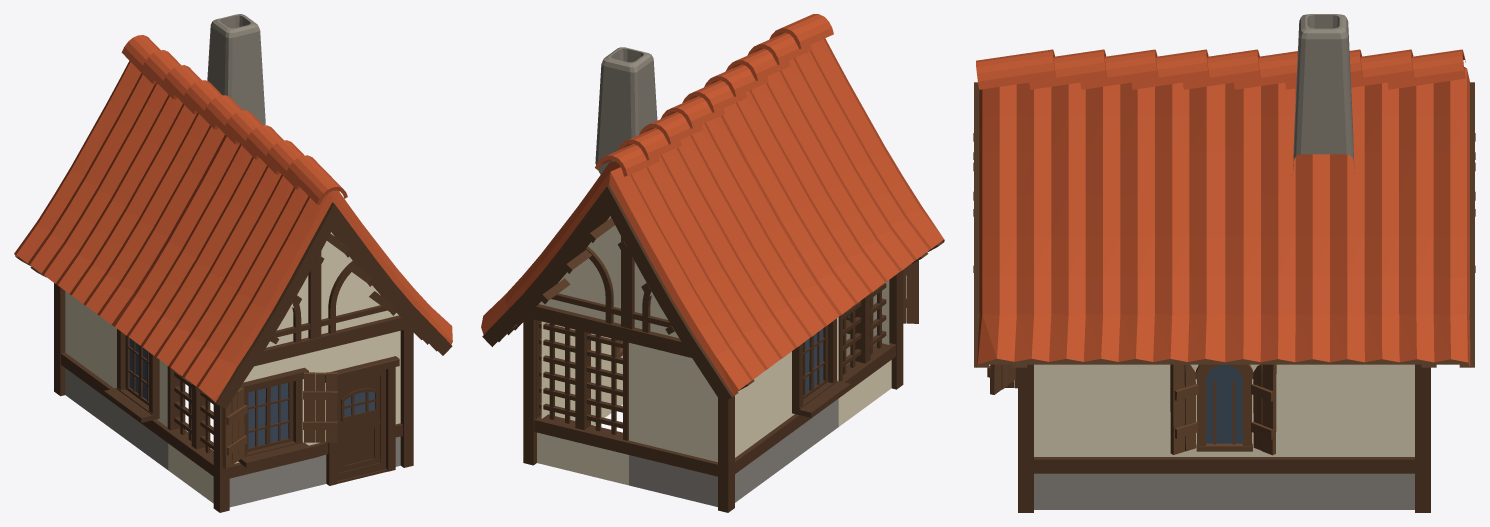
The model's file is cottage_timber.obj.
3 views of the same model, side by side, from view 1: azimuth 30°, elevation 25°; view 2: azimuth 150°, elevation 25°; view 3: azimuth 270°, elevation 25° (orthographic). The views are drawn at different scales.
Bounding box in the file's own units: 5.51 × 7.64 × 7.59.
